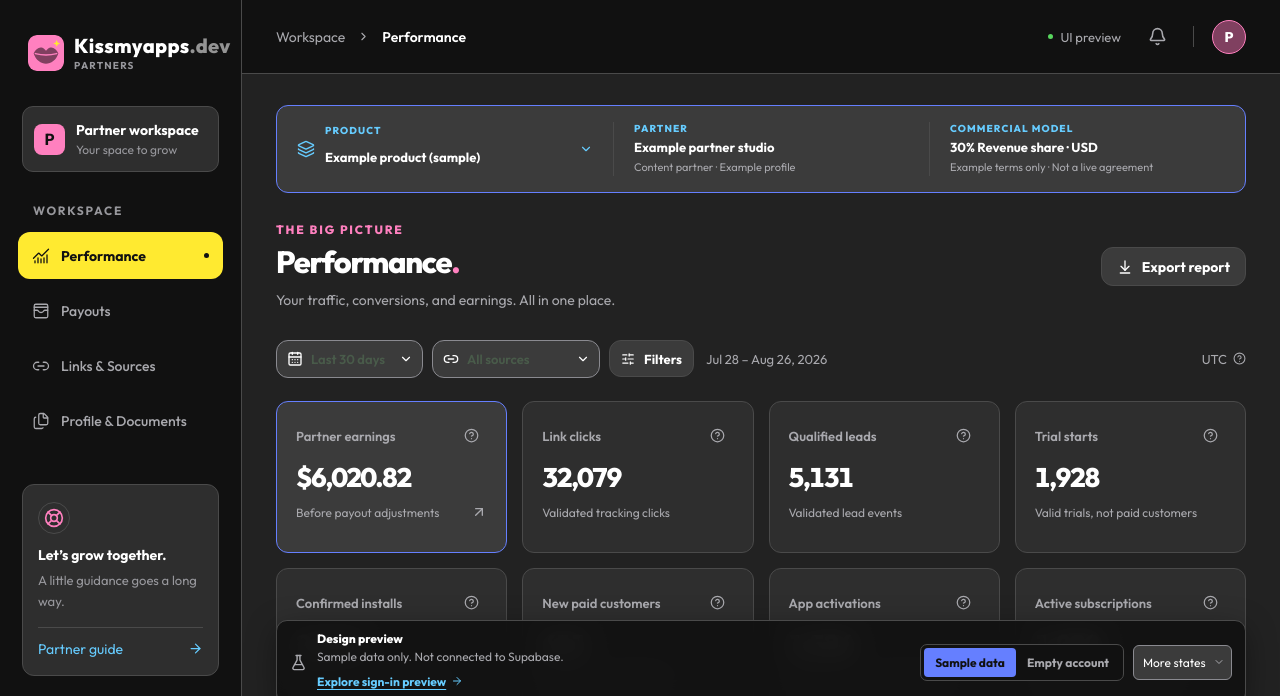
Scenario: reporting v2 UI › validates the native date values at submission even before a change event is committed
Select "Custom range" in the 1st dropdown named "Reporting period" at (362, 359), box [311,341,412,377]
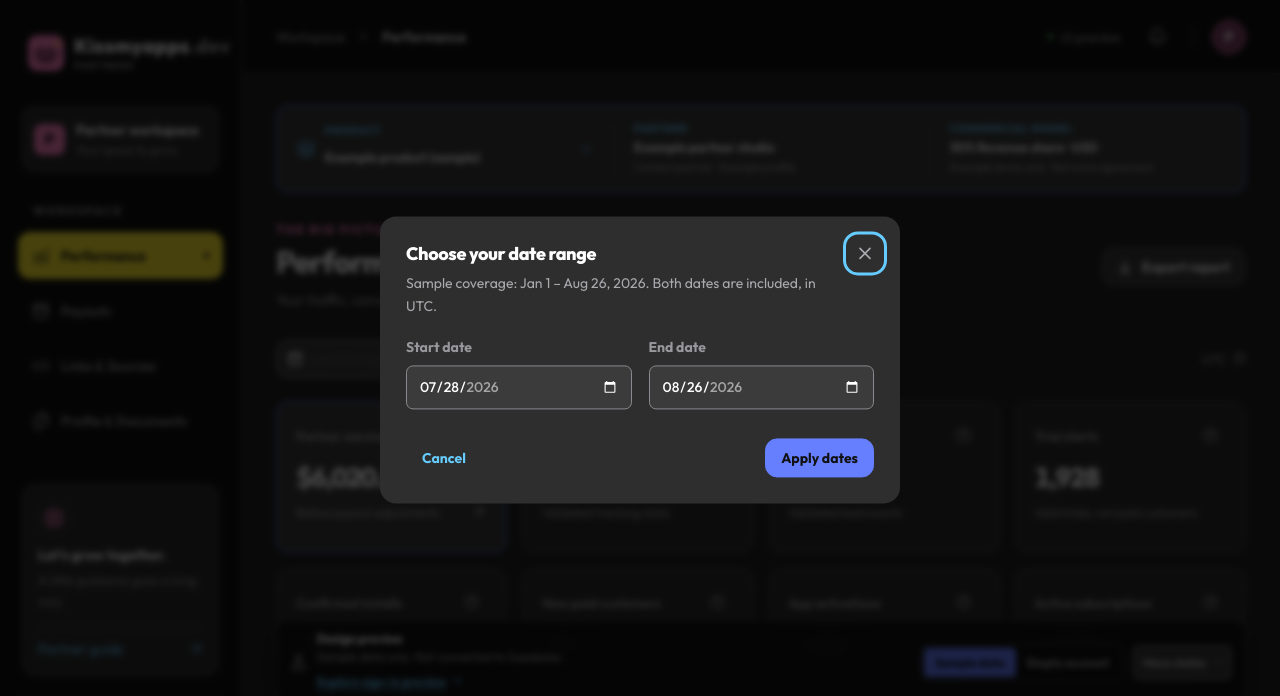
Type "2026-08-10" into the date field labelled "Start date" at (519, 388), box [406,366,632,410]
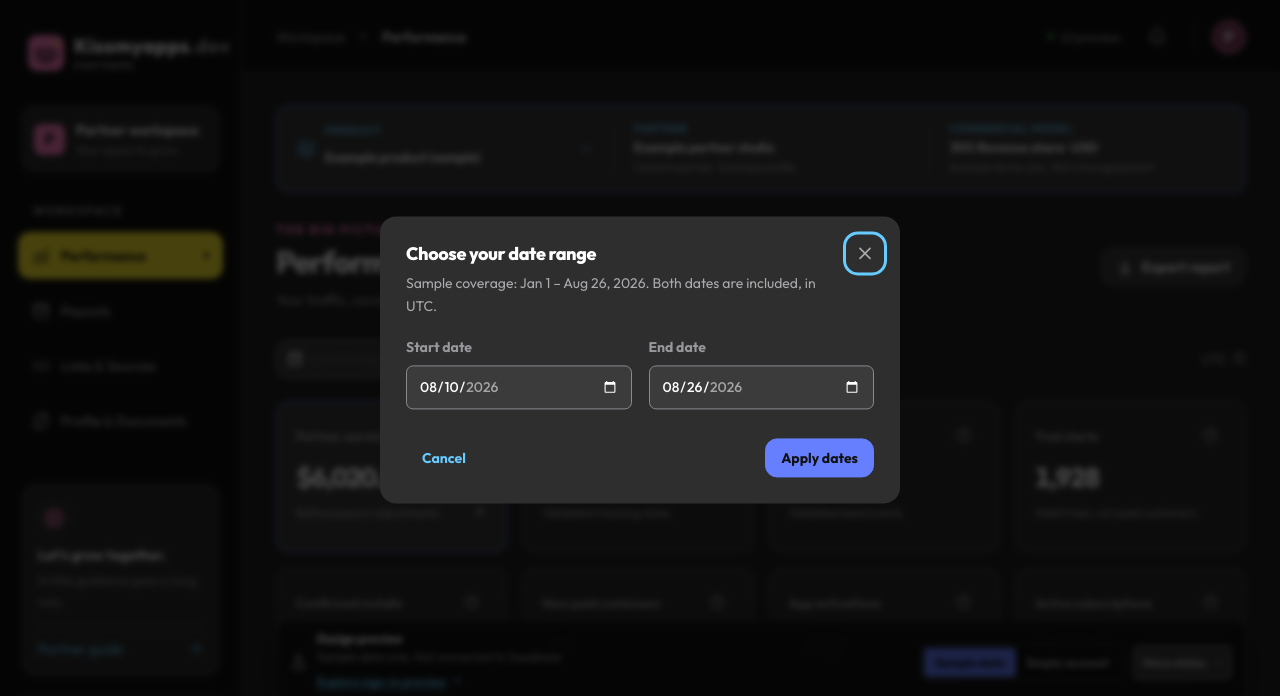
Type "2026-08-09" into the date field labelled "End date" at (761, 388), box [648,366,874,410]
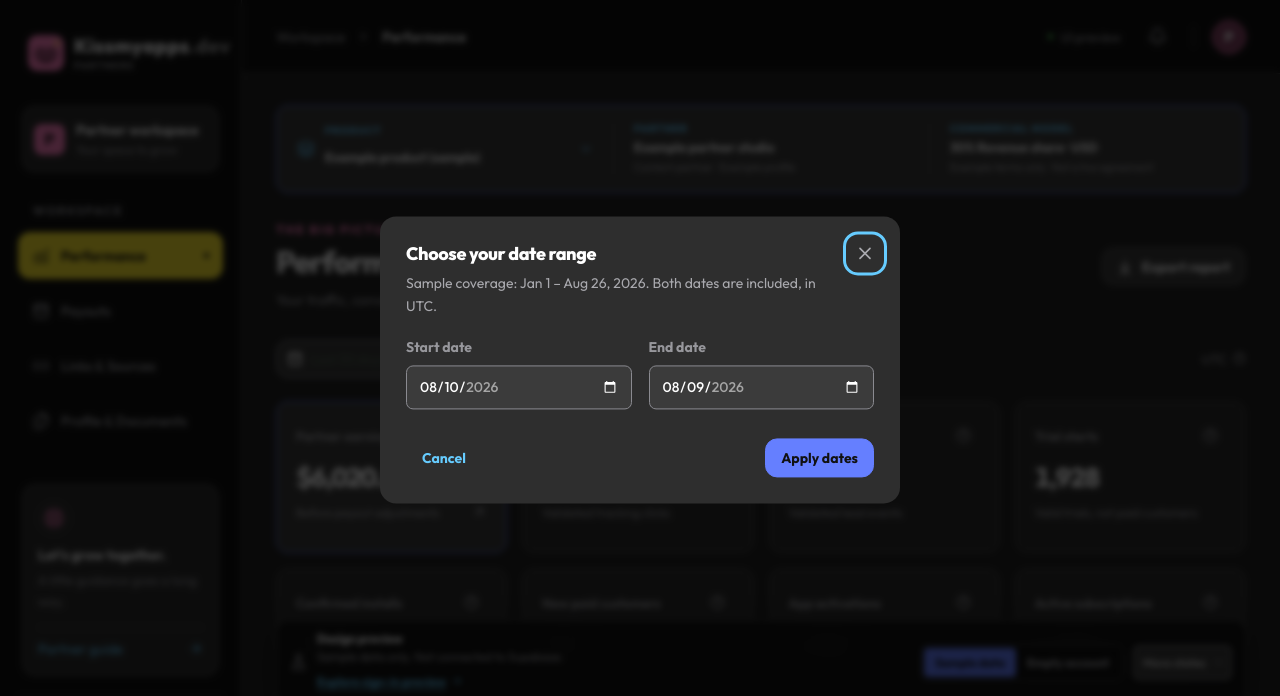
Click the button "Apply dates" at (820, 458), box [765,439,874,478]
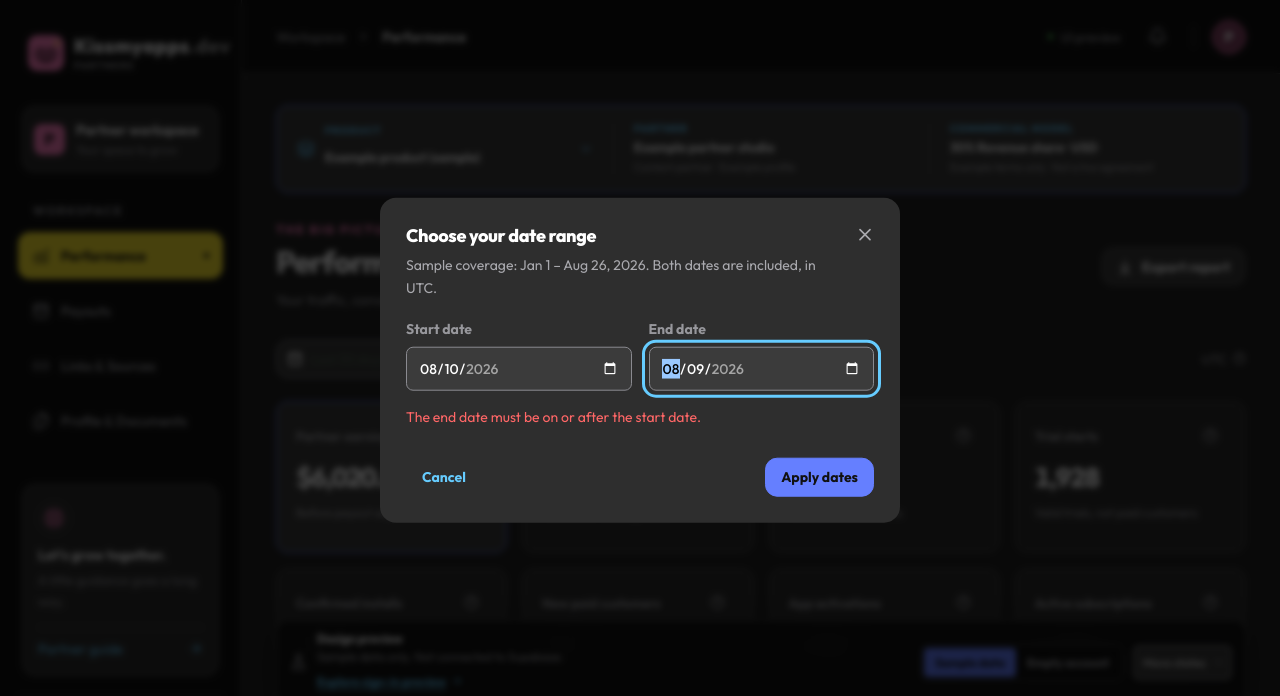
Type "2026-08-16" into the date field labelled "End date" at (761, 369), box [648,347,874,391]
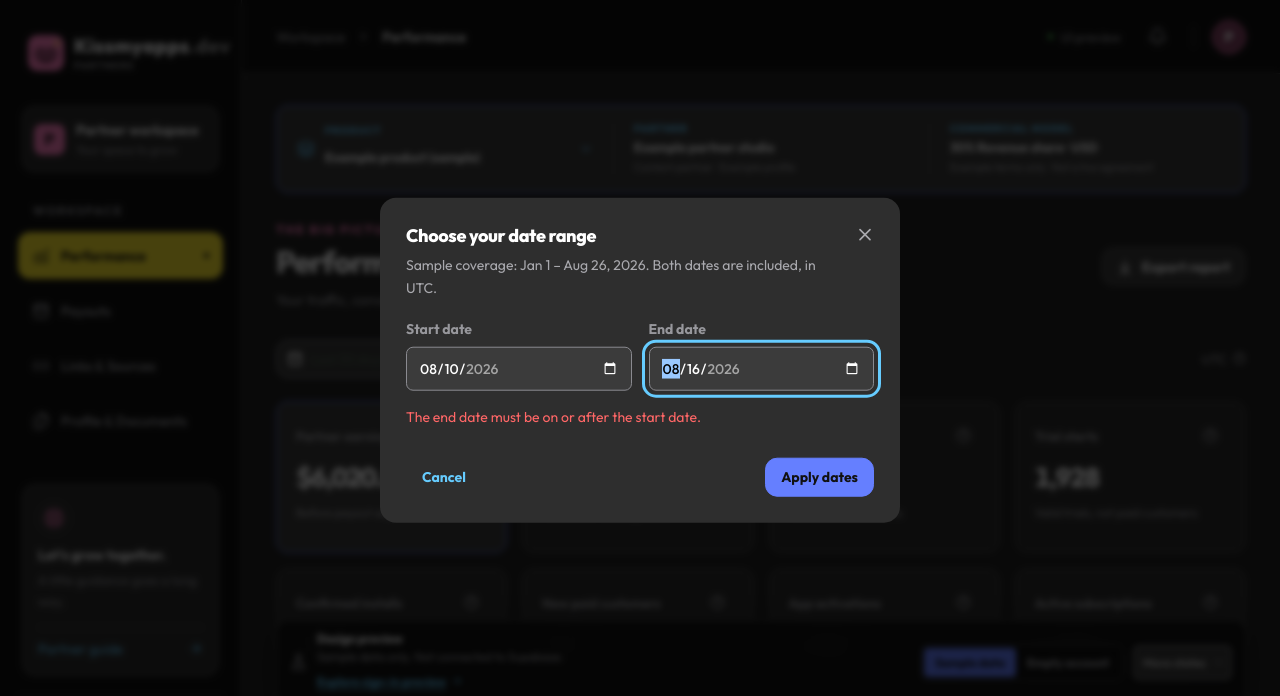
Click the button "Apply dates" at (820, 477), box [765,457,874,496]
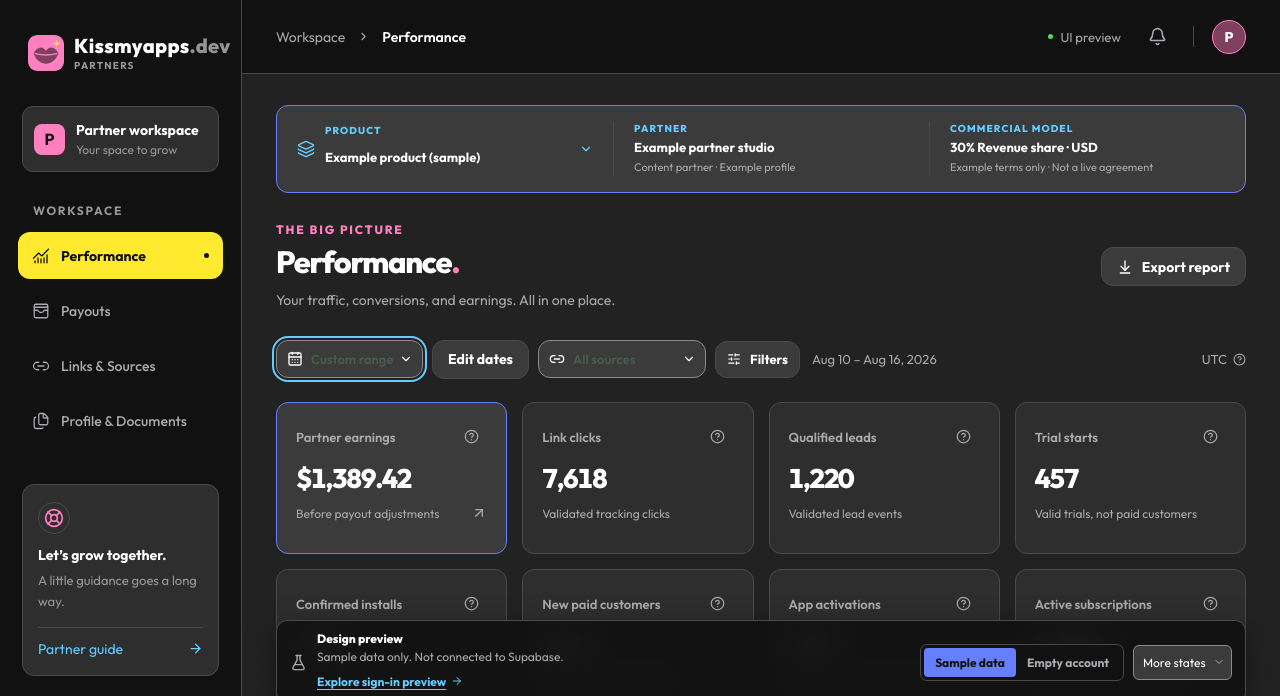
expect the text "Aug 10 – Aug 16, 2026" is shown: met, box [812,352,937,368]
